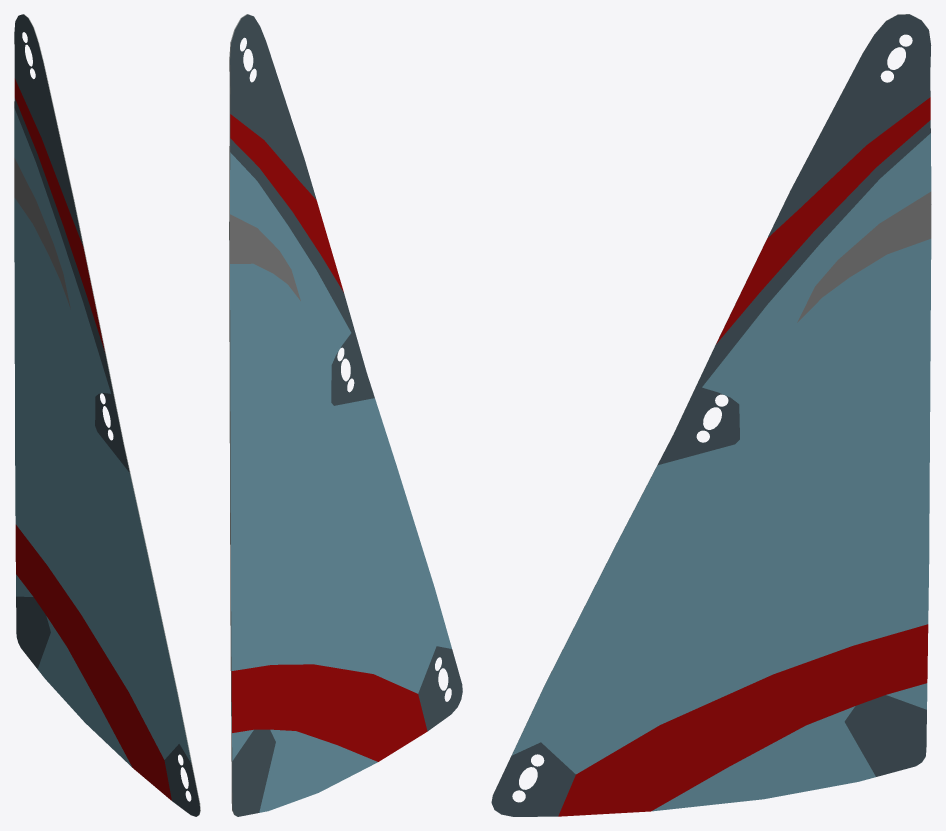
3 renders of one model, left to right at view 1: azimuth 30°, elevation 25°; view 2: azimuth 150°, elevation 25°; view 3: azimuth 270°, elevation 25°, orthographic. The views are drawn at different scales.
Visible parts, largest first — view 1: world; view 2: world; view 3: world.
Part boxes in pixels (box(x1,y1,x2,y2)): world: box(14, 14, 200, 816); world: box(229, 14, 462, 816); world: box(491, 14, 931, 816).
Size of the model in its own units: 0.0002 by 0.2104 by 0.1046.
